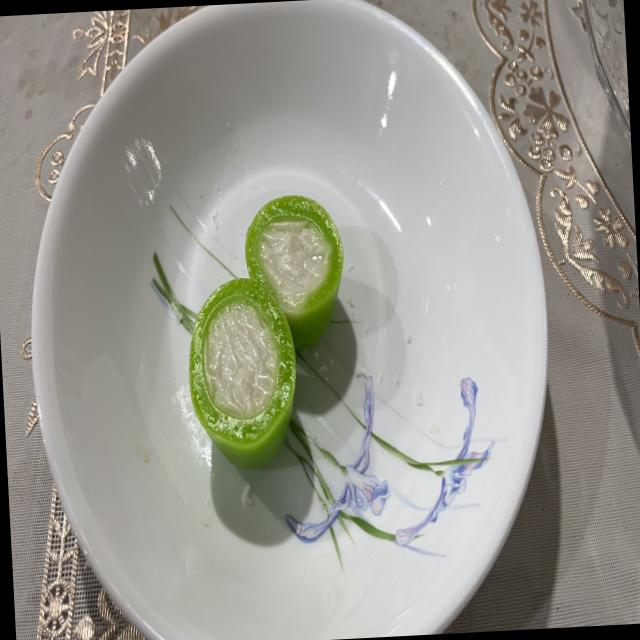nona-manis: (189, 279, 296, 469), (245, 196, 343, 350)
